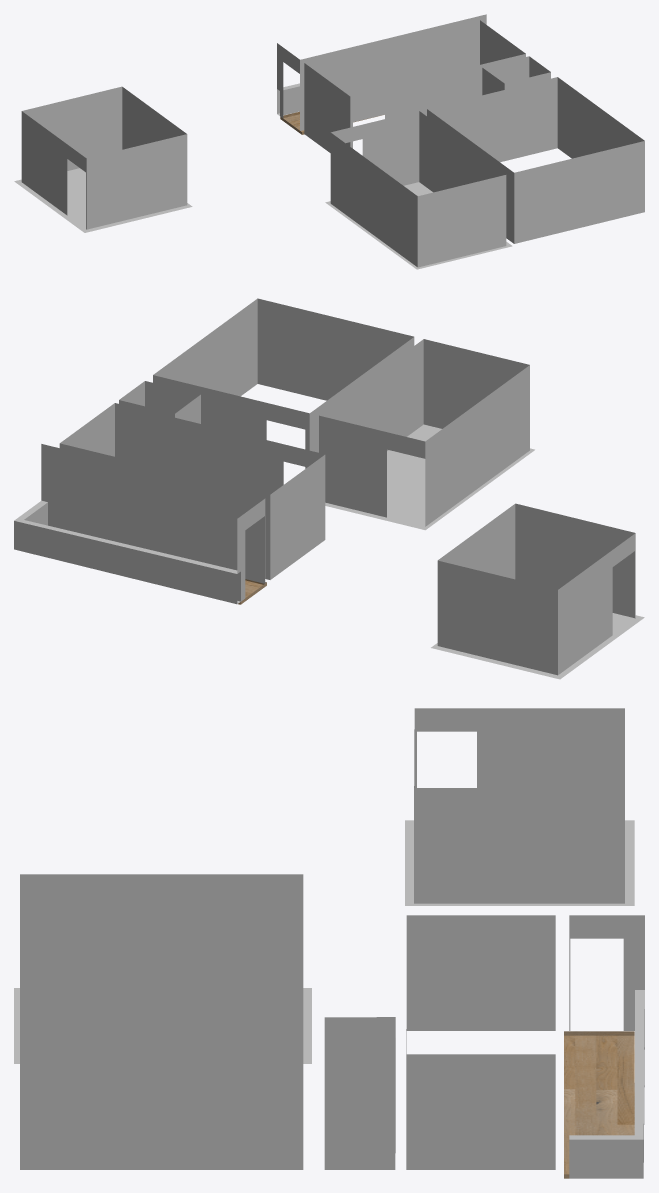
The model's file is BuildingStructures_2.fbx.
3 views of the same model, one above another, from view 1: azimuth 30°, elevation 25°; view 2: azimuth 150°, elevation 25°; view 3: azimuth 270°, elevation 25° (orthographic). The views are drawn at different scales.
Parts seen in each view (by area): view 1: Guestroom_Wall, Bethroom_1_Wall, Bethroom_2_Wall, Study_Wall, Bethroom_12Floor, Balcony_Wall, Secretroom_Wall; view 2: Balcony_Wall, Bethroom_2_Wall, Bethroom_1_Wall, Guestroom_Wall, Study_Wall, Bethroom_12Floor, Secretroom_Wall; view 3: Guestroom_Wall, Bethroom_2_Wall, Study_Wall, Bethroom_1_Wall, Secretroom_Wall, Balcony_Wall, Balcony_Floor, Bethroom_12Floor.
Part boxes in pixels (left/top/right/bottom): Guestroom_Wall: left=427, top=77, right=644, bottom=243; Bethroom_1_Wall: left=330, top=111, right=506, bottom=267; Bethroom_2_Wall: left=21, top=86, right=187, bottom=229; Study_Wall: left=304, top=20, right=525, bottom=152; Bethroom_12Floor: left=14, top=168, right=512, bottom=269; Balcony_Wall: left=277, top=14, right=486, bottom=130; Secretroom_Wall: left=482, top=56, right=550, bottom=95; Balcony_Wall: left=14, top=444, right=265, bottom=604; Bethroom_2_Wall: left=437, top=503, right=635, bottom=675; Bethroom_1_Wall: left=319, top=339, right=529, bottom=526; Guestroom_Wall: left=153, top=298, right=414, bottom=468; Study_Wall: left=59, top=403, right=325, bottom=579; Bethroom_12Floor: left=325, top=424, right=644, bottom=679; Secretroom_Wall: left=119, top=381, right=200, bottom=423; Guestroom_Wall: left=20, top=950, right=303, bottom=1169; Bethroom_2_Wall: left=414, top=708, right=624, bottom=903; Study_Wall: left=406, top=915, right=555, bottom=1169; Bethroom_1_Wall: left=20, top=874, right=303, bottom=950; Secretroom_Wall: left=324, top=1017, right=395, bottom=1169; Balcony_Wall: left=569, top=915, right=644, bottom=1178; Balcony_Floor: left=564, top=1031, right=634, bottom=1178; Bethroom_12Floor: left=14, top=820, right=634, bottom=1063.
Size of the model in its own units: 4983 by 779 by 3708.
